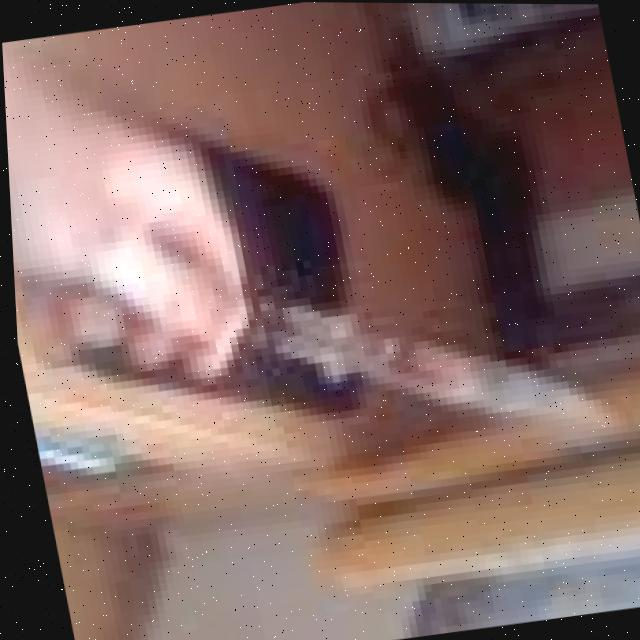knife: (242, 256, 618, 476)
